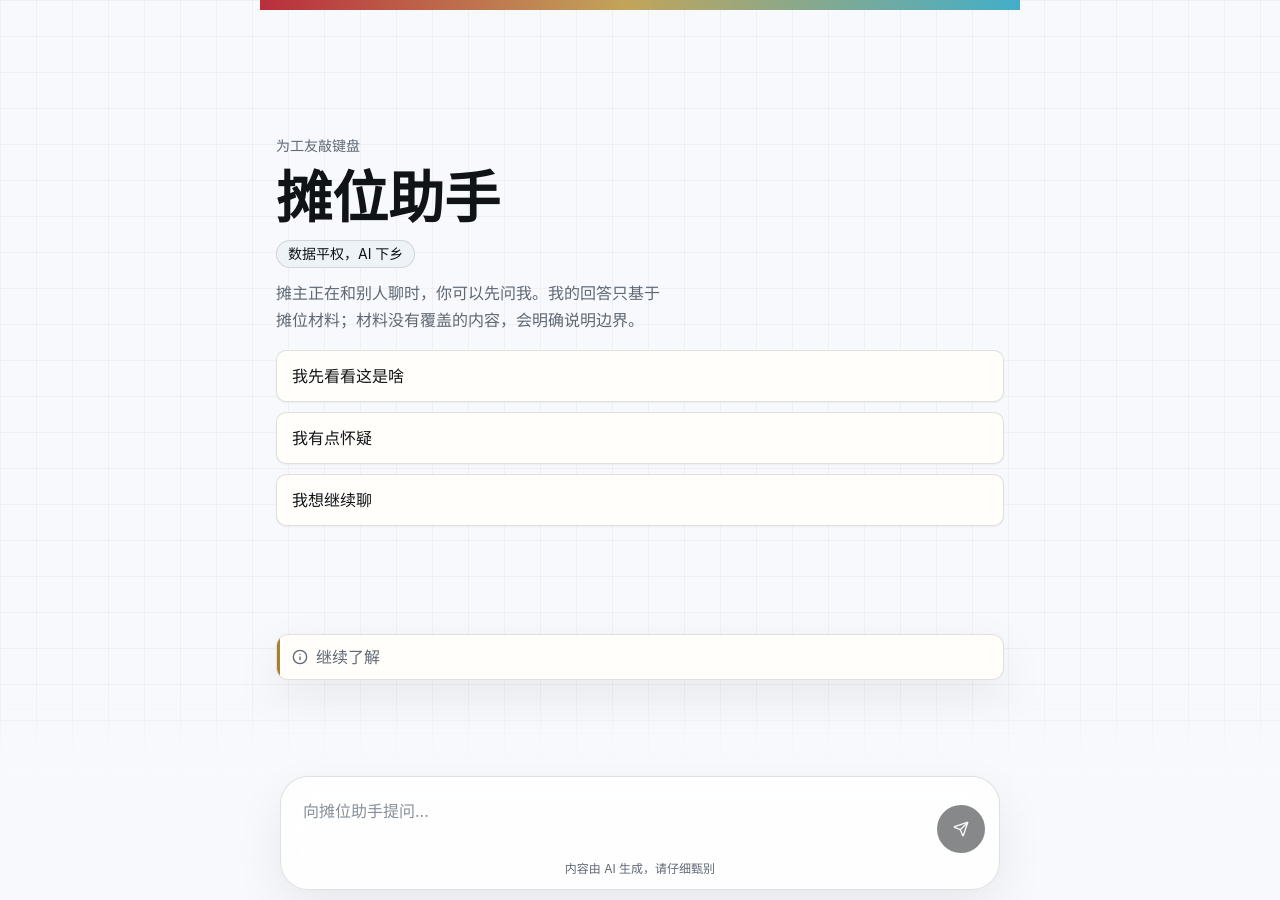
Test case: Home › scrolls to the newest content when the assistant response arrives
Type "回答出来以后应该滚到底部" into the text box named "输入问题". click: (611, 822)
box: [295,791,927,853]
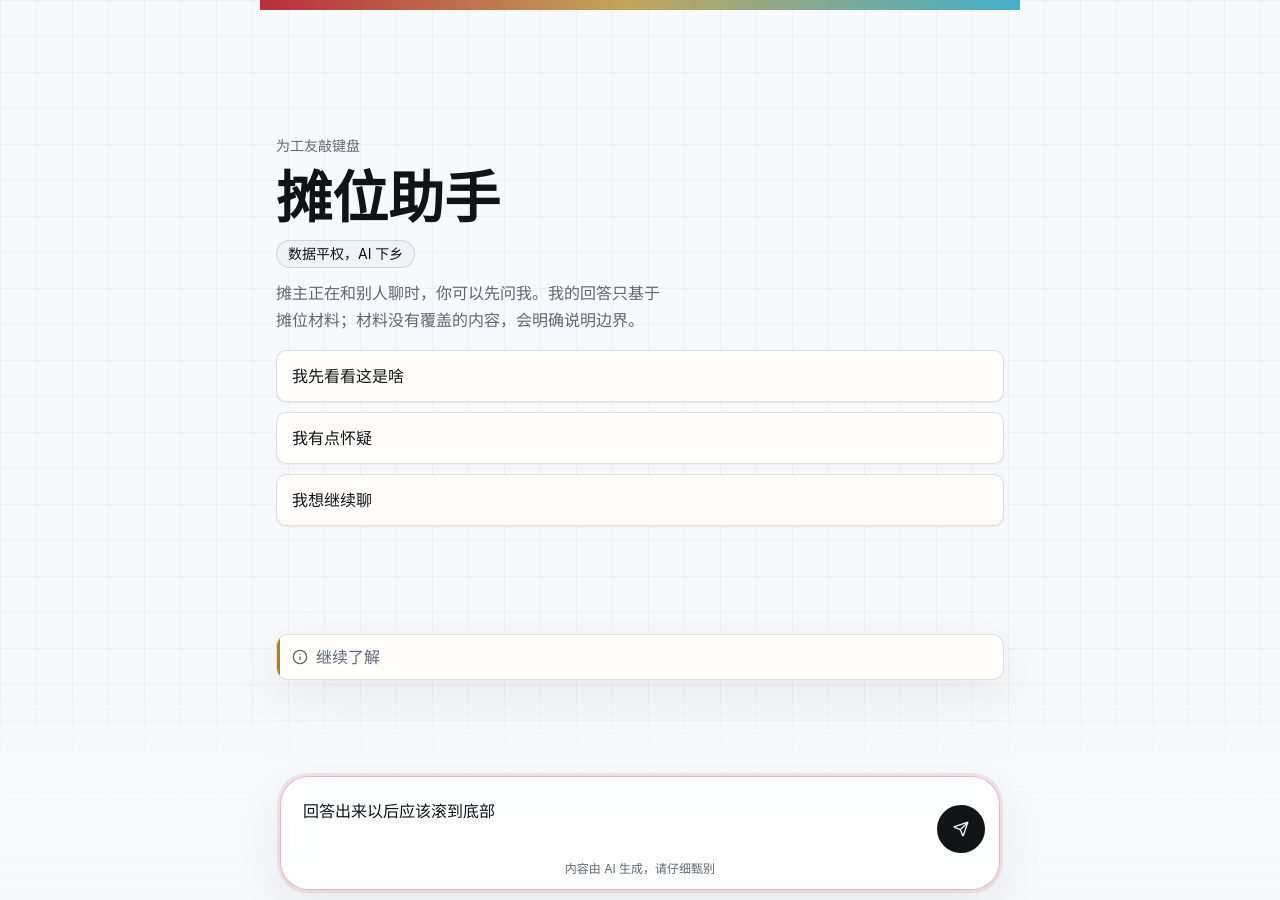
Click the button named "发送". click: (961, 829)
box: [937,805,985,853]
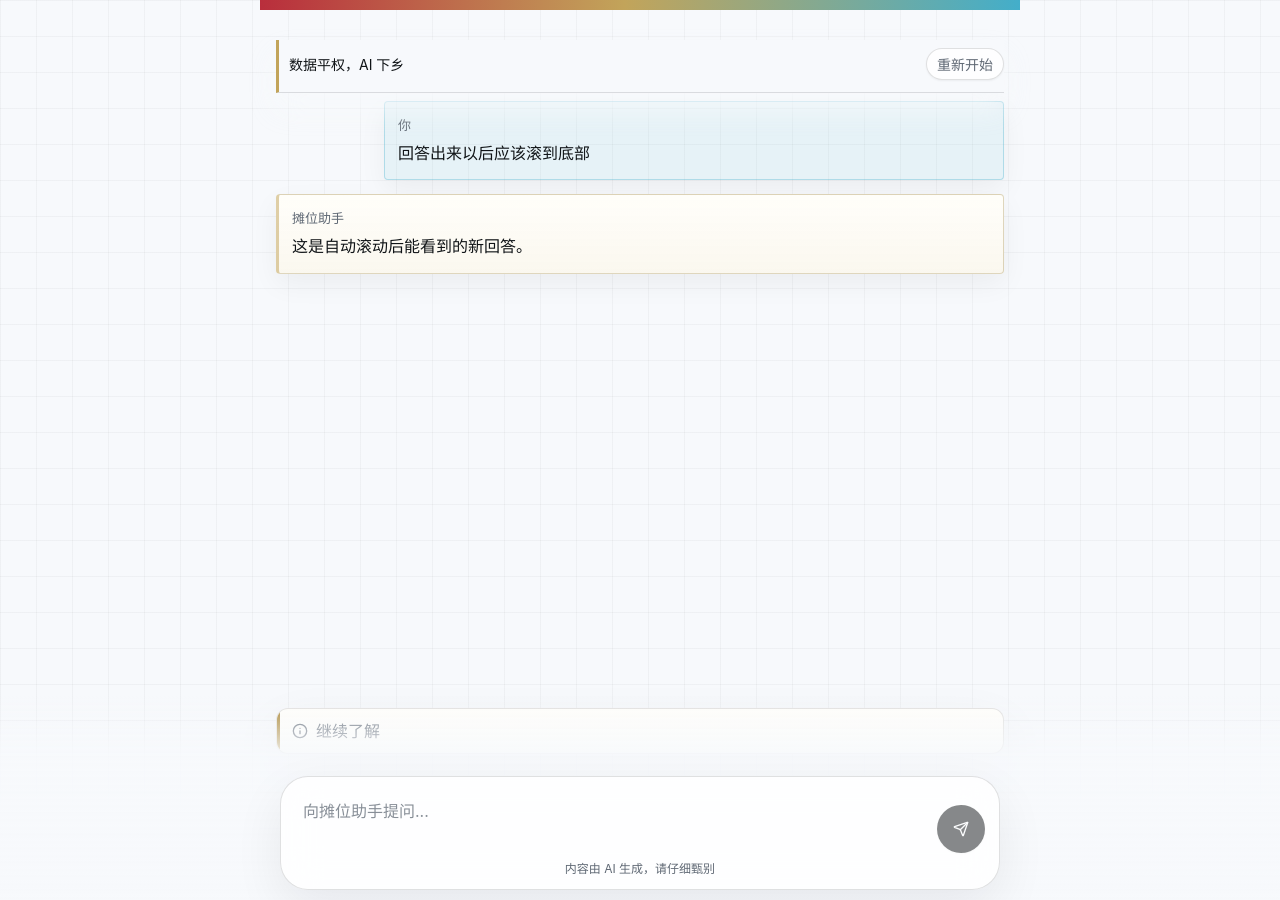
Now the text "这是自动滚动后能看到的新回答。" is shown, box [292,236,532,256]
